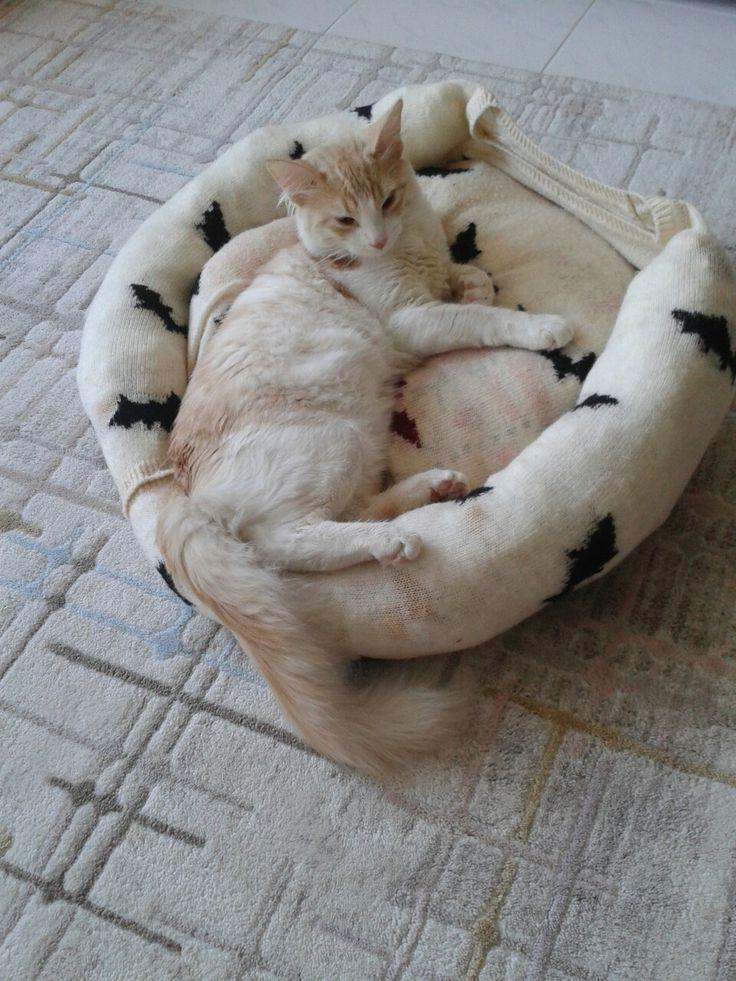kedo: (148, 86, 587, 780)
